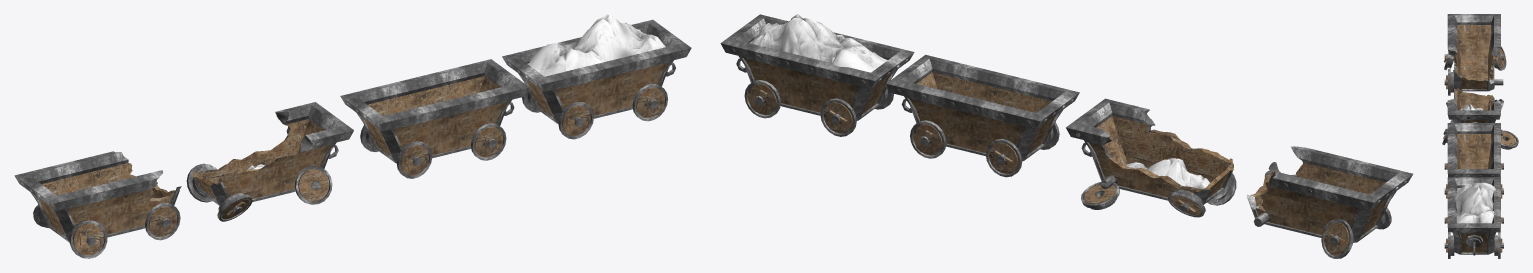
Rendered from vagon.FBX.
The picture shows the model from 3 angles, left to right: view 1: azimuth 30°, elevation 25°; view 2: azimuth 150°, elevation 25°; view 3: azimuth 270°, elevation 25°; orthographic projection. The views are drawn at different scales.
Visible parts, largest first — view 1: empty_vagon, broken_vagon, coal_vagon, broken_vagon2, Plane002; view 2: empty_vagon, broken_vagon, broken_vagon2, coal_vagon, Plane002, Plane003; view 3: broken_vagon, empty_vagon, coal_vagon, broken_vagon2, Plane002, Plane003.
Boxes of the visible parts, x1,y1,x2,y2 form: empty_vagon: (340, 59, 529, 178); broken_vagon: (14, 151, 181, 258); coal_vagon: (502, 19, 691, 139); broken_vagon2: (186, 102, 353, 221); Plane002: (527, 14, 665, 76); empty_vagon: (886, 54, 1079, 177); broken_vagon: (1246, 146, 1413, 258); broken_vagon2: (1066, 98, 1236, 217); coal_vagon: (720, 14, 914, 136); Plane002: (750, 14, 887, 72); Plane003: (1126, 158, 1209, 188); broken_vagon: (1444, 14, 1506, 95); empty_vagon: (1444, 123, 1503, 198); coal_vagon: (1444, 177, 1503, 258); broken_vagon2: (1442, 88, 1518, 149); Plane002: (1455, 182, 1495, 223); Plane003: (1460, 104, 1482, 110).
Bounding box in the file's own units: 207 × 30.89 × 31.21.
